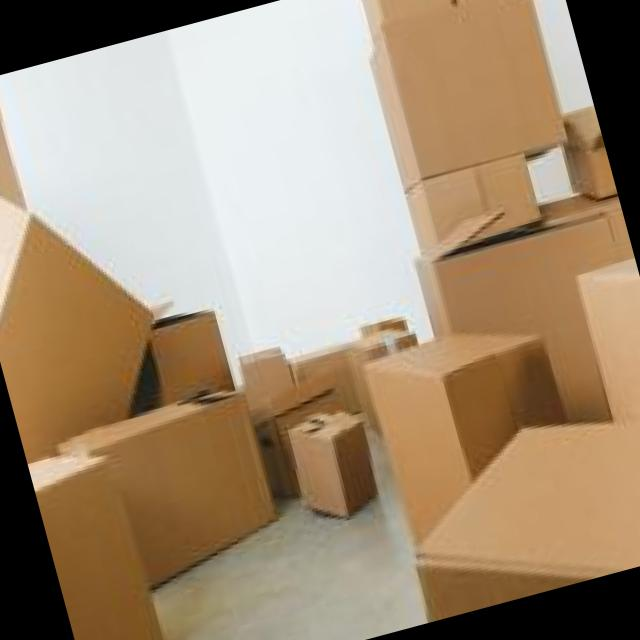box: (75, 28, 535, 589)
crushed: (116, 378, 318, 499)
opened: (72, 28, 535, 300)
